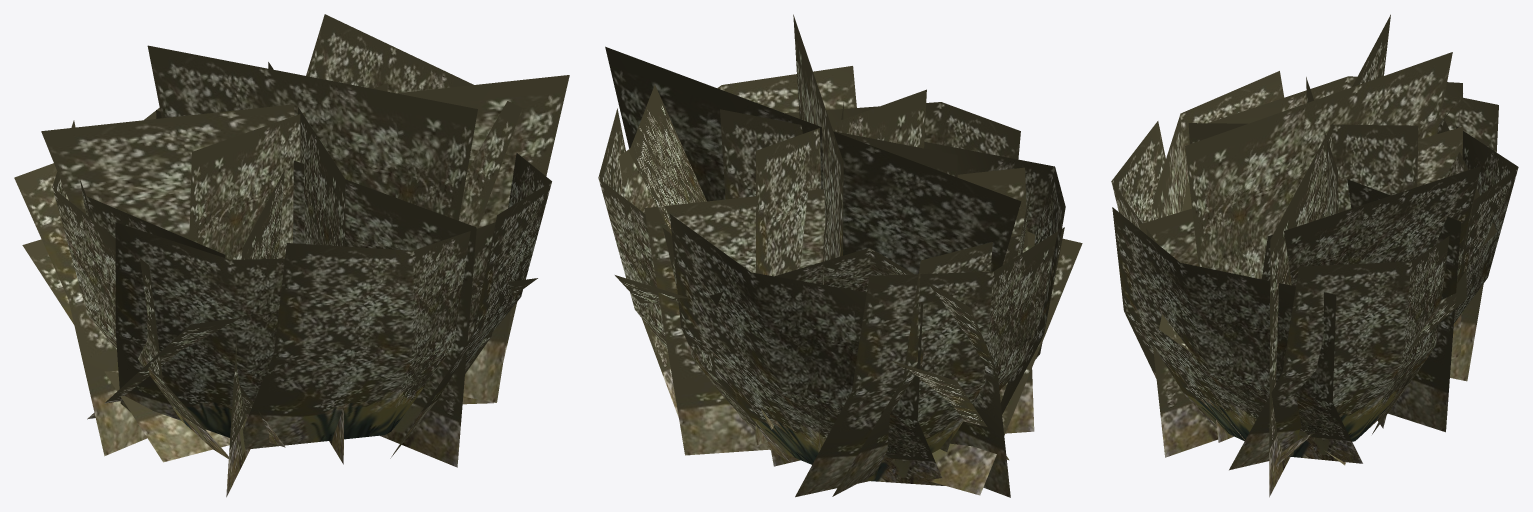
The model's file is pir_m_prp_vol_flower_white_b.fbx.
The picture shows the model from 3 angles, left to right: view 1: azimuth 30°, elevation 25°; view 2: azimuth 150°, elevation 25°; view 3: azimuth 270°, elevation 25°; orthographic projection. The views are drawn at different scales.
Parts seen in each view (by area): view 1: flower_plane011, flower_plane03, flower_plane06, flower_plane012, flower_plane04, flower_plane02, flower_plane015, flower_plane08, flower_plane010, flower_plane013, flower_plane01, flower_plane017 (+4 smaller); view 2: flower_plane014, flower_plane06, flower_plane013, flower_plane05, flower_plane01, flower_plane08, flower_plane09, flower_plane02, flower_plane010, flower_plane012, flower_plane015, flower_plane07 (+4 smaller); view 3: flower_plane010, flower_plane03, flower_plane09, flower_plane015, flower_plane04, flower_plane01, flower_plane06, flower_plane05, flower_plane014, flower_plane012, flower_plane011, flower_plane013 (+5 smaller).
Part boxes in pixels (bbox=[...]): flower_plane011: bbox=[243, 222, 495, 449]; flower_plane03: bbox=[147, 45, 477, 220]; flower_plane06: bbox=[41, 75, 569, 404]; flower_plane012: bbox=[115, 222, 284, 437]; flower_plane04: bbox=[156, 110, 476, 467]; flower_plane02: bbox=[189, 83, 387, 259]; flower_plane015: bbox=[306, 14, 522, 228]; flower_plane08: bbox=[14, 163, 147, 456]; flower_plane010: bbox=[390, 153, 551, 458]; flower_plane013: bbox=[52, 120, 228, 458]; flower_plane01: bbox=[268, 62, 345, 464]; flower_plane017: bbox=[22, 239, 229, 462]; flower_plane014: bbox=[670, 214, 944, 485]; flower_plane06: bbox=[605, 46, 1021, 451]; flower_plane013: bbox=[795, 227, 1064, 497]; flower_plane05: bbox=[644, 167, 1034, 455]; flower_plane01: bbox=[755, 89, 926, 445]; flower_plane08: bbox=[710, 248, 1010, 497]; flower_plane09: bbox=[598, 108, 789, 461]; flower_plane02: bbox=[720, 109, 957, 199]; flower_plane010: bbox=[618, 66, 856, 417]; flower_plane012: bbox=[924, 141, 1065, 414]; flower_plane015: bbox=[629, 84, 773, 429]; flower_plane07: bbox=[832, 182, 1032, 496]; flower_plane010: bbox=[1112, 207, 1362, 463]; flower_plane03: bbox=[1185, 52, 1452, 442]; flower_plane09: bbox=[1229, 223, 1469, 470]; flower_plane015: bbox=[1262, 166, 1481, 286]; flower_plane04: bbox=[1139, 126, 1462, 457]; flower_plane01: bbox=[1188, 123, 1418, 212]; flower_plane06: bbox=[1269, 14, 1390, 497]; flower_plane05: bbox=[1347, 179, 1461, 432]; flower_plane014: bbox=[1372, 126, 1518, 434]; flower_plane012: bbox=[1153, 71, 1284, 218]; flower_plane011: bbox=[1111, 121, 1244, 439]; flower_plane013: bbox=[1450, 97, 1498, 381].
Bounding box in the file's own units: 580 × 417 × 463.
Materials: 1 (1 with a texture image).
